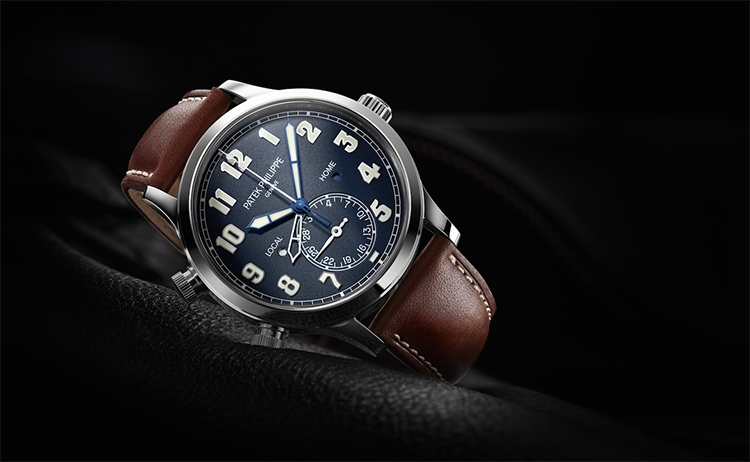clock: (191, 105, 408, 309)
